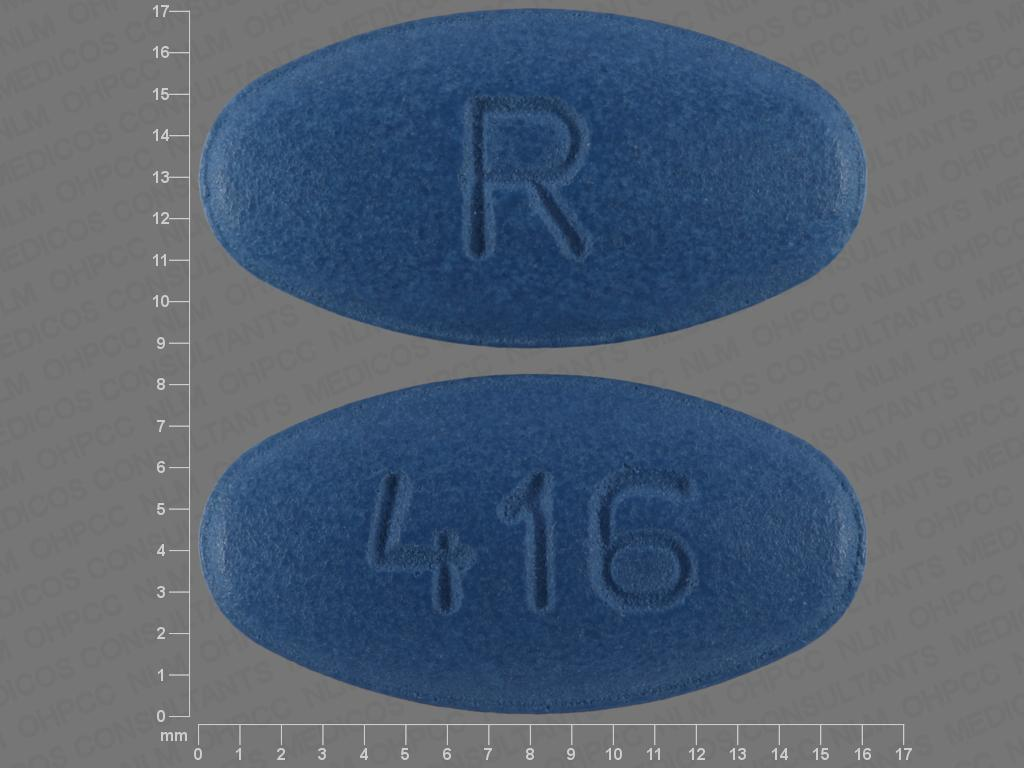Pill: (196, 363, 876, 723), (196, 4, 874, 356)
